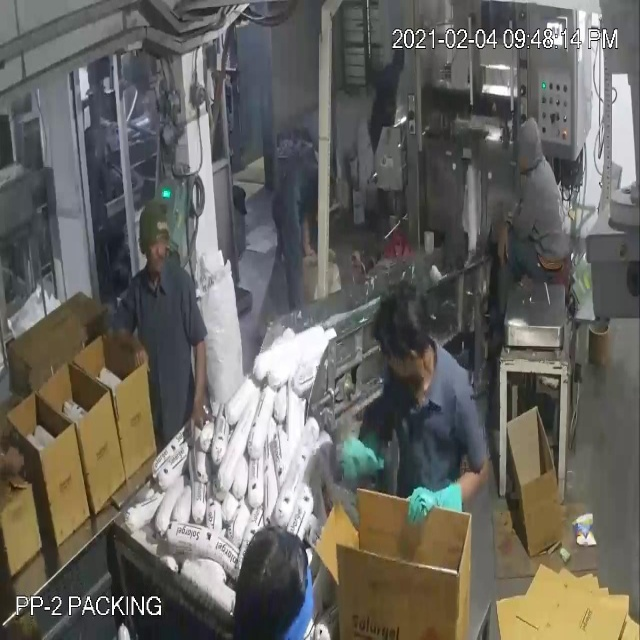Guantes: (327, 426, 391, 504), (399, 475, 472, 532)
Sin_guantes: (178, 315, 224, 455), (97, 316, 165, 395), (486, 209, 523, 287), (295, 196, 328, 272), (0, 425, 31, 491)
